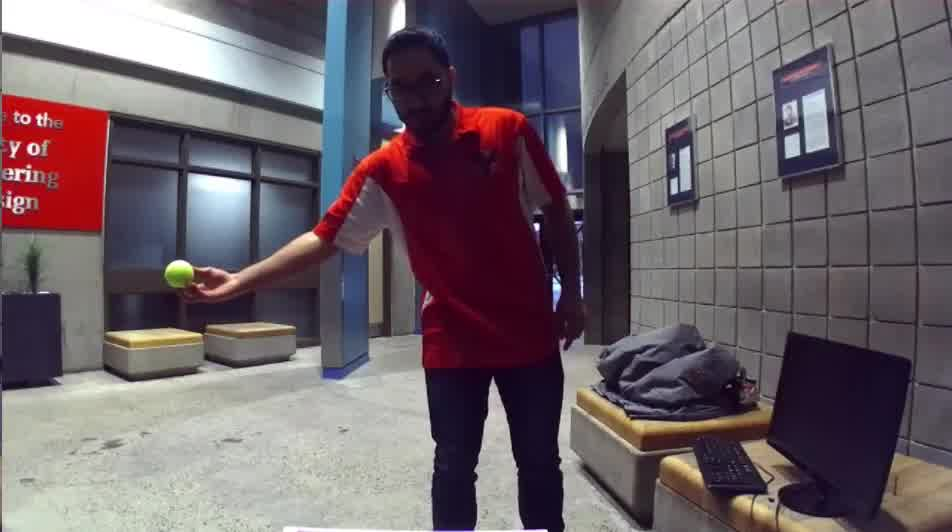tennis_ball: (161, 258, 199, 290)
